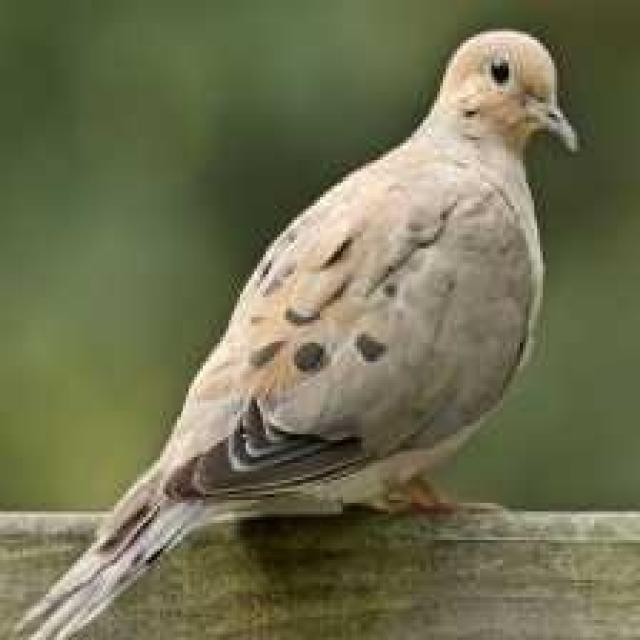bird: (2, 7, 590, 640)
